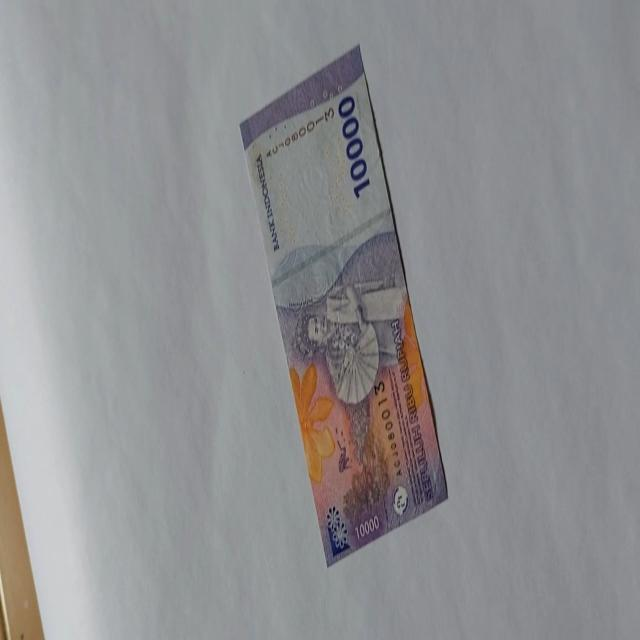sepuluh ribu rupiah: (238, 42, 449, 568)
